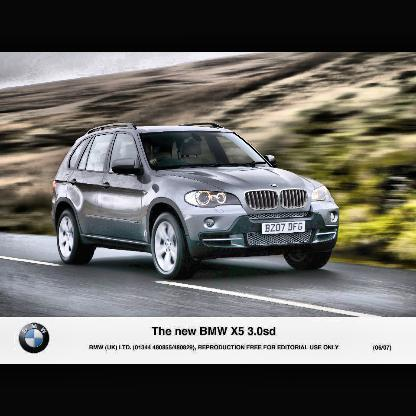BMW X5 SUV 2007: (51, 122, 342, 282)
